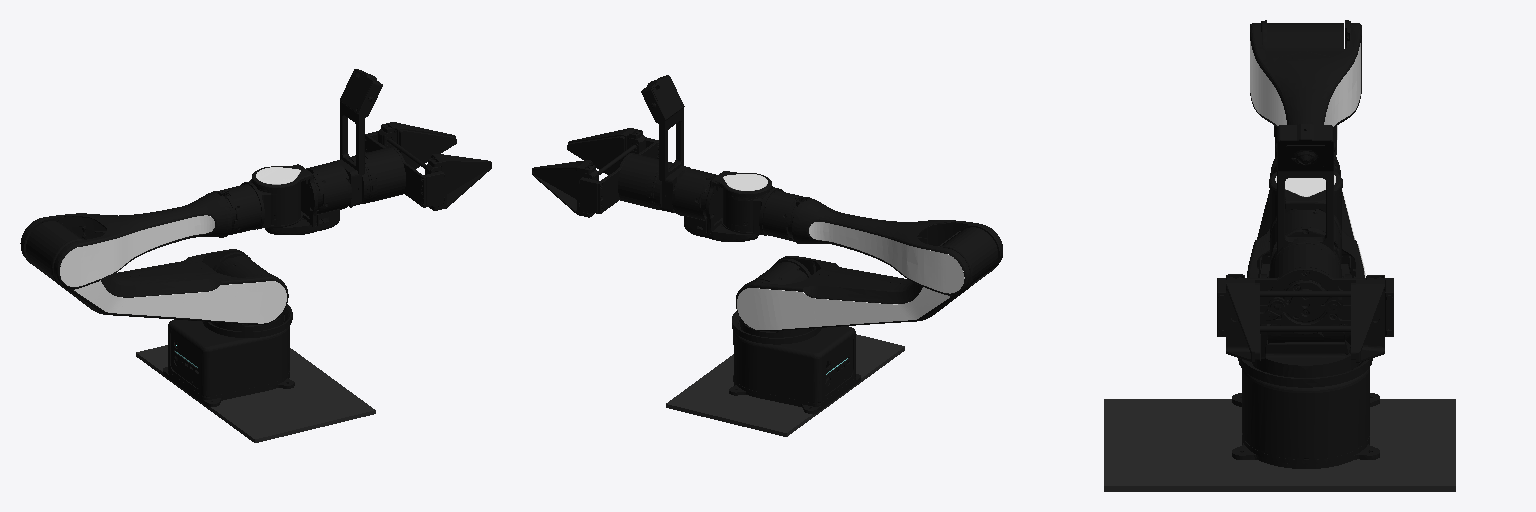
The robot description file, URDF, robot "airbot_play_v3_gripper":
<?xml version='1.0' encoding='utf-8'?>
<robot name="airbot_play_v3_gripper">
    <!-- Geometry (meshes, base plate, forearm length joint4) from DISCOVERSE d67f47c models/mjcf/manipulator/airbot_play; see ../SOURCE.md -->
    <link name="base_link">
        <inertial>
            <origin xyz="-0.010729 -0.00017015 0.041712" rpy="0 0 0" />
            <mass value="0.77705" />
            <inertia ixx="0.0008454" ixy="-7.5E-06" ixz="2.06E-05" iyy="0.0011821" iyz="-6.4E-06" izz="0.0012443" />
        </inertial>
        <visual>
            <origin xyz="0 0 0" rpy="0 0 0" />
            <geometry>
                <mesh filename="package://airbot_play_v3_gripper/meshes/arm_base_1.STL" />
            </geometry>
            <material name="">
                <color rgba="0.12 0.12 0.12 1" />
            </material>
        </visual>
        <visual>
            <origin xyz="0 0 -0.0015" rpy="0 0 0" />
            <geometry>
                <mesh filename="package://airbot_play_v3_gripper/meshes/arm_base_0.STL" />
            </geometry>
            <material name="">
                <color rgba="0.6 1 1 1" />
            </material>
        </visual>
        <visual>
            <origin xyz="0 -0.02 0.0025" rpy="0 0 1.5708" />
            <geometry>
                <box size="0.275 0.1612 0.005" />
            </geometry>
            <material name="">
                <color rgba="0.2 0.2 0.2 1" />
            </material>
        </visual>
        <collision>
            <origin xyz="0 0 0" rpy="0 0 0" />
            <geometry>
                <mesh filename="package://airbot_play_v3_gripper/meshes/arm_base_1.STL" />
            </geometry>
        </collision>
        <collision name="base_plate">
            <origin xyz="0 -0.02 0.0025" rpy="0 0 1.5708" />
            <geometry>
                <box size="0.275 0.1612 0.005" />
            </geometry>
        </collision>
    </link>
    <link name="link1">
        <inertial>
            <origin xyz="7.9126E-05 -0.002527 -0.0041359" rpy="0 0 0" />
            <mass value="0.54639" />
            <inertia ixx="0.0003462" ixy="0" ixz="-1.4E-06" iyy="0.0002863" iyz="-1.1E-06" izz="0.0003255" />
        </inertial>
        <visual>
            <origin xyz="0 0 0" rpy="0 0 0" />
            <geometry>
                <mesh filename="package://airbot_play_v3_gripper/meshes/link1.STL" />
            </geometry>
            <material name="">
                <color rgba="0.12 0.12 0.12 1" />
            </material>
        </visual>
        <collision>
            <origin xyz="0 0 0" rpy="0 0 0" />
            <geometry>
                <mesh filename="package://airbot_play_v3_gripper/meshes/link1.STL" />
            </geometry>
        </collision>
    </link>
    <joint name="joint1" type="revolute">
        <origin xyz="0 0 0.1172" rpy="0 0 0" />
        <parent link="base_link" />
        <child link="link1" />
        <axis xyz="0 0 1" />
        <limit lower="-3.14" upper="2.09" effort="18" velocity="3.14" />
    </joint>
    <link name="link2">
        <inertial>
            <origin xyz="0.22493 0.0047721 0.008023" rpy="0 0 0" />
            <mass value="0.64621" />
            <inertia ixx="0.0004901" ixy="0.0005229" ixz="-0.0002434" iyy="0.0050391" iyz="-2.95E-05" izz="0.0051052" />
        </inertial>
        <visual>
            <origin xyz="0 0 0" rpy="0 0 0" />
            <geometry>
                <mesh filename="package://airbot_play_v3_gripper/meshes/link2_0.STL" />
            </geometry>
            <material name="">
                <color rgba="0.12 0.12 0.12 1" />
            </material>
        </visual>
        <visual>
            <origin xyz="0 0 0" rpy="0 0 0" />
            <geometry>
                <mesh filename="package://airbot_play_v3_gripper/meshes/link2_1.STL" />
            </geometry>
            <material name="">
                <color rgba="0.93 0.93 0.93 1" />
            </material>
        </visual>
        <collision>
            <origin xyz="0 0 0" rpy="0 0 0" />
            <geometry>
                <mesh filename="package://airbot_play_v3_gripper/meshes/link2_0.STL" />
            </geometry>
        </collision>
        <collision>
            <origin xyz="0 0 0" rpy="0 0 0" />
            <geometry>
                <mesh filename="package://airbot_play_v3_gripper/meshes/link2_1.STL" />
            </geometry>
        </collision>
    </link>
    <joint name="joint2" type="revolute">
        <origin xyz="0 0 0" rpy="1.5708 -2.7549 0" />
        <parent link="link1" />
        <child link="link2" />
        <axis xyz="0 0 1" />
        <limit lower="-2.96" upper="0.17" effort="18" velocity="3.14" />
    </joint>
    <link name="link3">
        <inertial>
            <origin xyz="0.16813 -5.5576E-05 0.0031184" rpy="0 0 0" />
            <mass value="0.26829" />
            <inertia ixx="0.000245" ixy="-4E-07" ixz="-0.0001263" iyy="0.0031527" iyz="-1E-07" izz="0.0030895" />
        </inertial>
        <visual>
            <origin xyz="0 0 0" rpy="0 0 0" />
            <geometry>
                <mesh filename="package://airbot_play_v3_gripper/meshes/link3_0.STL" />
            </geometry>
            <material name="">
                <color rgba="0.12 0.12 0.12 1" />
            </material>
        </visual>
        <visual>
            <origin xyz="0 0 0" rpy="0 0 0" />
            <geometry>
                <mesh filename="package://airbot_play_v3_gripper/meshes/link3_1.STL" />
            </geometry>
            <material name="">
                <color rgba="0.93 0.93 0.93 1" />
            </material>
        </visual>
        <collision>
            <origin xyz="0 0 0" rpy="0 0 0" />
            <geometry>
                <mesh filename="package://airbot_play_v3_gripper/meshes/link3_0.STL" />
            </geometry>
        </collision>
        <collision>
            <origin xyz="0 0 0" rpy="0 0 0" />
            <geometry>
                <mesh filename="package://airbot_play_v3_gripper/meshes/link3_1.STL" />
            </geometry>
        </collision>
    </link>
    <joint name="joint3" type="revolute">
        <origin xyz="0.27009 0 0" rpy="0 0 -2.7549" />
        <parent link="link2" />
        <child link="link3" />
        <axis xyz="0 0 1" />
        <limit lower="-0.087" upper="3.14" effort="18" velocity="3.14" />
    </joint>
    <link name="link4">
        <inertial>
            <origin xyz="5.2436E-06 0.00040412 -0.03228" rpy="0 0 0" />
            <mass value="0.34876" />
            <inertia ixx="0.0004235" ixy="0" ixz="4.7E-06" iyy="0.000412" iyz="-1E-07" izz="0.0001269" />
        </inertial>
        <visual>
            <origin xyz="0 0 0" rpy="0 0 0" />
            <geometry>
                <mesh filename="package://airbot_play_v3_gripper/meshes/link4.STL" />
            </geometry>
            <material name="">
                <color rgba="0.12 0.12 0.12 1" />
            </material>
        </visual>
        <collision>
            <origin xyz="0 0 0" rpy="0 0 0" />
            <geometry>
                <mesh filename="package://airbot_play_v3_gripper/meshes/link4.STL" />
            </geometry>
        </collision>
    </link>
    <joint name="joint4" type="revolute">
        <origin xyz="0.29015 0 0" rpy="3.1416 -1.5708 0" />
        <parent link="link3" />
        <child link="link4" />
        <axis xyz="0 0 1" />
        <limit lower="-2.96" upper="2.96" effort="3" velocity="6.28" />
    </joint>
    <link name="link5">
        <inertial>
            <origin xyz="8.3328E-06 0.026148 0.002525" rpy="0 0 0" />
            <mass value="0.36132" />
            <inertia ixx="0.0001825" ixy="0" ixz="-3.29E-05" iyy="0.0004677" iyz="0" izz="0.0004286" />
        </inertial>
        <visual>
            <origin xyz="0 0 0" rpy="0 0 0" />
            <geometry>
                <mesh filename="package://airbot_play_v3_gripper/meshes/link5_0.STL" />
            </geometry>
            <material name="">
                <color rgba="0.12 0.12 0.12 1" />
            </material>
        </visual>
        <visual>
            <origin xyz="0 0 0" rpy="0 0 0" />
            <geometry>
                <mesh filename="package://airbot_play_v3_gripper/meshes/link5_1.STL" />
            </geometry>
            <material name="">
                <color rgba="0.93 0.93 0.93 1" />
            </material>
        </visual>
        <collision>
            <origin xyz="0 0 0" rpy="0 0 0" />
            <geometry>
                <mesh filename="package://airbot_play_v3_gripper/meshes/link5_0.STL" />
            </geometry>
        </collision>
        <collision>
            <origin xyz="0 0 0" rpy="0 0 0" />
            <geometry>
                <mesh filename="package://airbot_play_v3_gripper/meshes/link5_1.STL" />
            </geometry>
        </collision>
    </link>
    <joint name="joint5" type="revolute">
        <origin xyz="0 0 0" rpy="1.5708 0 0" />
        <parent link="link4" />
        <child link="link5" />
        <axis xyz="0 0 1" />
        <limit lower="-1.74" upper="1.74" effort="3" velocity="6.28" />
    </joint>
    <link name="link6">
        <inertial>
            <origin xyz="-0.0047053 7.3857E-05 -0.12293" rpy="0 0 0" />
            <mass value="0.53855" />
            <inertia ixx="5E-05" ixy="0" ixz="0" iyy="5E-05" iyz="0" izz="3.85E-05" />
        </inertial>
        <visual>
            <origin xyz="0 0 0" rpy="0 0 0" />
            <geometry>
                <mesh filename="package://airbot_play_v3_gripper/meshes/link6.STL" />
            </geometry>
            <material name="">
                <color rgba="0.12 0.12 0.12 1" />
            </material>
        </visual>
        <visual>
            <origin xyz="0 0 0" rpy="0 0 0" />
            <geometry>
                <mesh filename="package://airbot_play_v3_gripper/meshes/camera_stand.STL" />
            </geometry>
            <material name="">
                <color rgba="0.12 0.12 0.12 1" />
            </material>
        </visual>
        <collision>
            <origin xyz="0 0 0" rpy="0 0 0" />
            <geometry>
                <mesh filename="package://airbot_play_v3_gripper/meshes/link6.STL" />
            </geometry>
        </collision>
        <collision>
            <origin xyz="0 0 0" rpy="0 0 0" />
            <geometry>
                <mesh filename="package://airbot_play_v3_gripper/meshes/camera_stand.STL" />
            </geometry>
        </collision>
    </link>
    <joint name="joint6" type="revolute">
        <origin xyz="0 0.23645 0" rpy="-1.5708 1.5708 0" />
        <parent link="link5" />
        <child link="link6" />
        <axis xyz="0 0 1" />
        <limit lower="-3.14" upper="3.14" effort="3" velocity="6.28" />
    </joint>
    <link name="left">
        <inertial>
            <origin xyz="-0.049039 -0.0096764 0.00038868" rpy="0 0 0" />
            <mass value="0.061803" />
            <inertia ixx="1.8946E-05" ixy="-1.3168E-06" ixz="-6.5528E-07" iyy="2.7277E-05" iyz="-2.0801E-07" izz="1.1981E-05" />
        </inertial>
        <visual>
            <origin xyz="0 0.00425 0" rpy="3.14159 -1.5708 0" />
            <geometry>
                <mesh filename="package://airbot_play_v3_gripper/meshes/right.STL" />
            </geometry>
            <material name="">
                <color rgba="0.12 0.12 0.12 1" />
            </material>
        </visual>
        <collision>
            <origin xyz="0 0.00425 0" rpy="3.14159 -1.5708 0" />
            <geometry>
                <mesh filename="package://airbot_play_v3_gripper/meshes/right.STL" />
            </geometry>
        </collision>
    </link>
    <joint name="endleft" type="prismatic">
        <origin xyz="0 0.04 0" rpy="3.14159 -1.5708 0" />
        <parent link="link6" />
        <child link="left" />
        <axis xyz="0 1 0" />
        <limit lower="0" upper="0.04" effort="0" velocity="0" />
    </joint>
    <link name="right">
        <inertial>
            <origin xyz="-0.048742 0.0096369 0.00044322" rpy="0 0 0" />
            <mass value="0.0626" />
            <inertia ixx="1.915E-05" ixy="1.343E-06" ixz="-6.8259E-07" iyy="2.7722E-05" iyz="2.0748E-07" izz="1.2248E-05" />
        </inertial>
        <visual>
            <origin xyz="0 -0.00425 0" rpy="3.14159 -1.5708 0" />
            <geometry>
                <mesh filename="package://airbot_play_v3_gripper/meshes/left.STL" />
            </geometry>
            <material name="">
                <color rgba="0.12 0.12 0.12 1" />
            </material>
        </visual>
        <collision>
            <origin xyz="0 -0.00425 0" rpy="3.14159 -1.5708 0" />
            <geometry>
                <mesh filename="package://airbot_play_v3_gripper/meshes/left.STL" />
            </geometry>
        </collision>
    </link>
    <joint name="endright" type="prismatic">
        <origin xyz="0 -0.04 0" rpy="3.14159 -1.5708 0" />
        <parent link="link6" />
        <child link="right" />
        <axis xyz="0 1 0" />
        <limit lower="-0.04" upper="0" effort="0" velocity="0" />
    </joint>
    <link name="custom_end_link">
        <inertial>
            <origin xyz="0 0 0" rpy="0 0 0" />
            <mass value="1E-15" />
            <inertia ixx="1E-11" ixy="1E-15" ixz="1E-15" iyy="1E-11" iyz="1E-15" izz="1E-11" />
        </inertial>
    </link>
    <!-- custom_end_link (the point MoveIt and the task configs use) at the fingertips: link6 z 25.63 mm
         is the tip of both finger meshes (was 0.02, 5.6 mm above the tips) -->
    <joint name="joint_custom_end" type="fixed">
        <origin xyz="0 0 0.0256" rpy="0 -1.5708 0" />
        <parent link="link6" />
        <child link="custom_end_link" />
    </joint>
</robot>

--- Render facts (derived) ---
The picture shows the robot from 3 angles, left to right: view 1: azimuth 30°, elevation 25°; view 2: azimuth 150°, elevation 25°; view 3: azimuth 270°, elevation 25°; orthographic projection.
Robot: airbot_play_v3_gripper — 10 links, 9 joints (6 revolute, 2 prismatic, 1 fixed); root link base_link; default pose: all joints at 0.
Links seen in each view (by area): view 1: base_link, link2, link3, link6, link5, link1, left, right, link4; view 2: base_link, link2, link3, link6, link5, link1, right, left, link4; view 3: base_link, link6, link3, link1, link2, link5, right, left.
Link boxes in pixels (x1,y1,x2,y2): base_link: [136, 315, 375, 442]; link2: [23, 218, 288, 324]; link3: [20, 184, 261, 288]; link6: [314, 69, 444, 207]; link5: [251, 162, 351, 234]; link1: [203, 252, 292, 337]; left: [378, 122, 456, 169]; right: [425, 154, 491, 210]; link4: [226, 180, 302, 229]; base_link: [666, 322, 904, 436]; link2: [736, 225, 1000, 330]; link3: [762, 190, 1002, 295]; link6: [579, 75, 709, 214]; link5: [672, 168, 771, 241]; link1: [732, 259, 821, 344]; right: [567, 128, 645, 174]; left: [532, 160, 598, 217]; link4: [722, 186, 796, 235]; base_link: [1104, 362, 1455, 491]; link6: [1217, 124, 1393, 336]; link3: [1250, 23, 1361, 176]; link1: [1238, 274, 1372, 387]; link2: [1247, 20, 1365, 333]; link5: [1269, 171, 1342, 263]; right: [1226, 274, 1259, 362]; left: [1351, 275, 1384, 362].
Bounding box of the posed robot: 0.5822 × 0.275 × 0.3533 m (x, y, z).
Meshes: 14 distinct files referenced, 14 mesh visuals loaded (14 binary STL).
